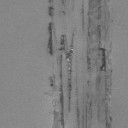slag inclusion: (76, 0, 114, 128), (57, 32, 75, 112), (53, 54, 66, 128), (46, 22, 54, 57), (46, 0, 55, 18), (50, 76, 54, 87), (60, 0, 66, 5), (61, 10, 66, 16)
